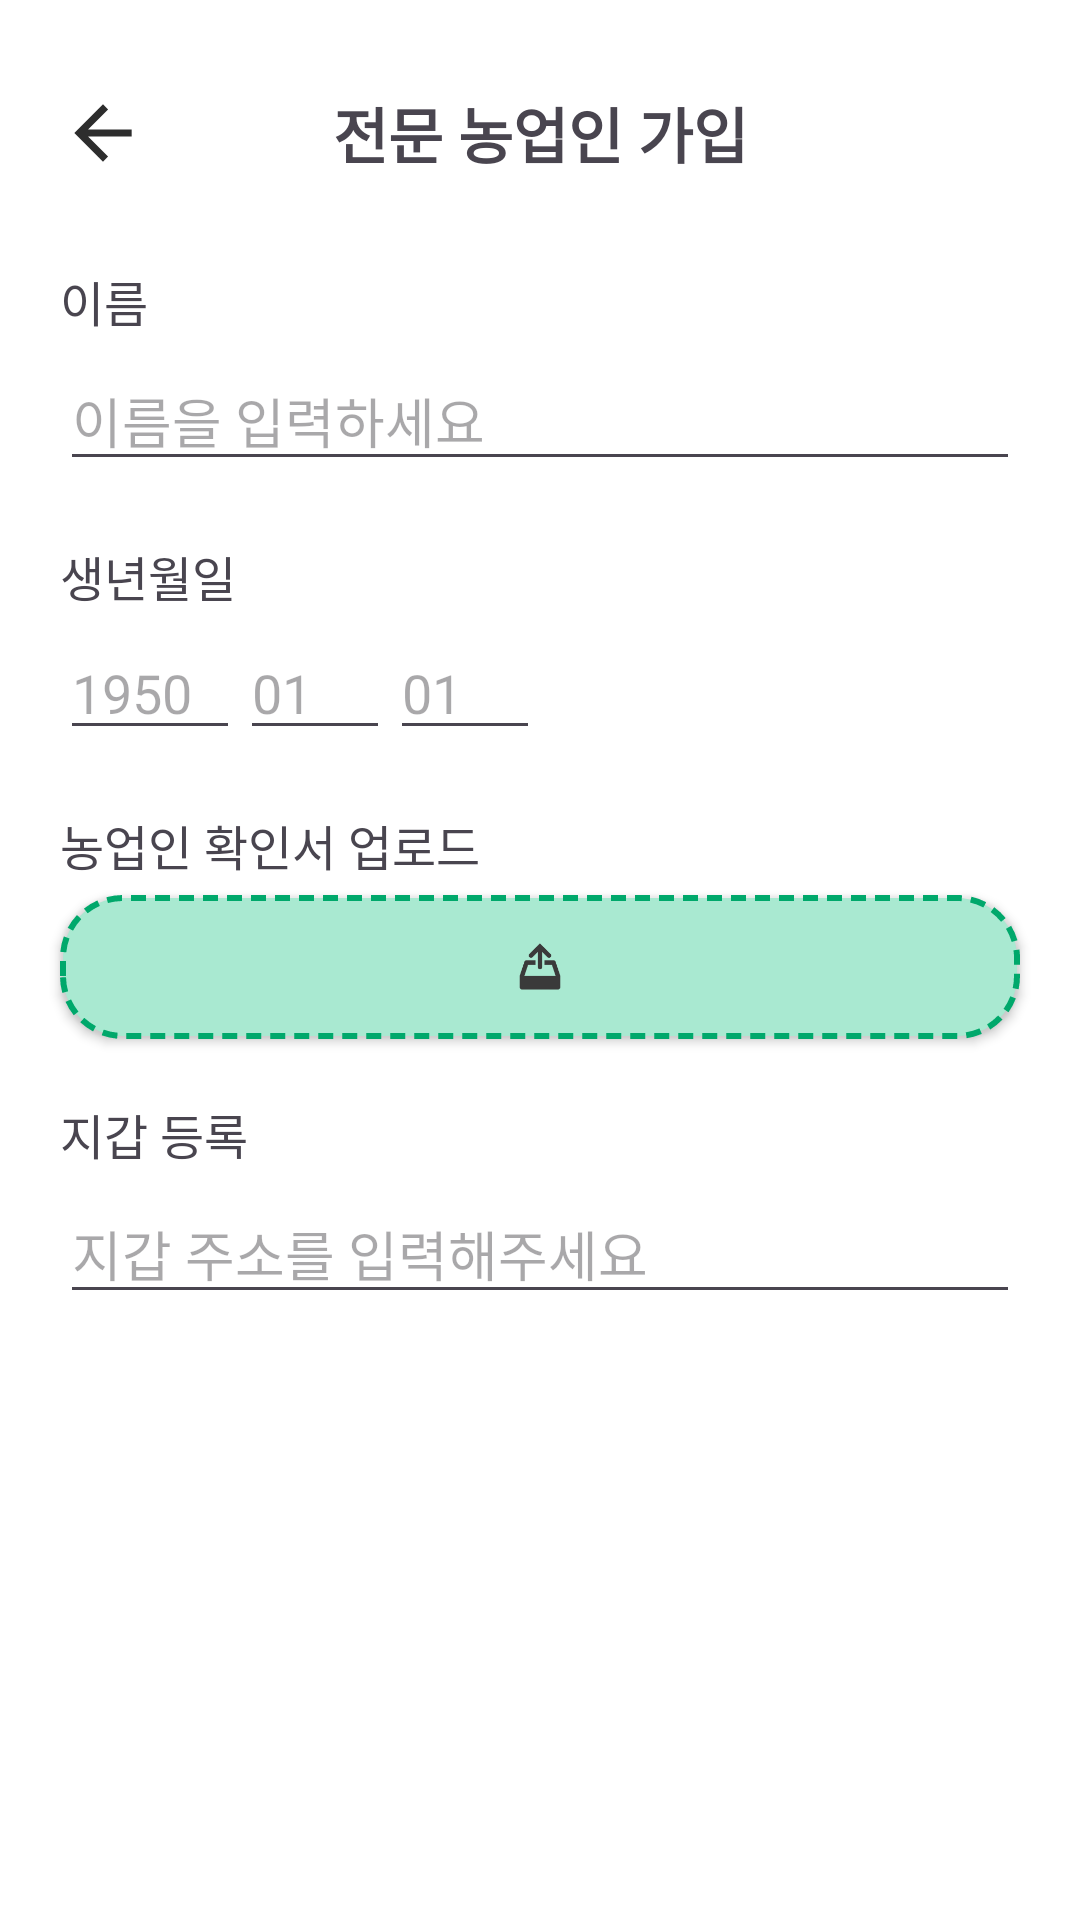

Where icons sit on this 1080px x 1920px app screen, as (x1, y1, x2, y2):
back: (74, 104, 132, 162)
upload: (519, 943, 561, 990)
